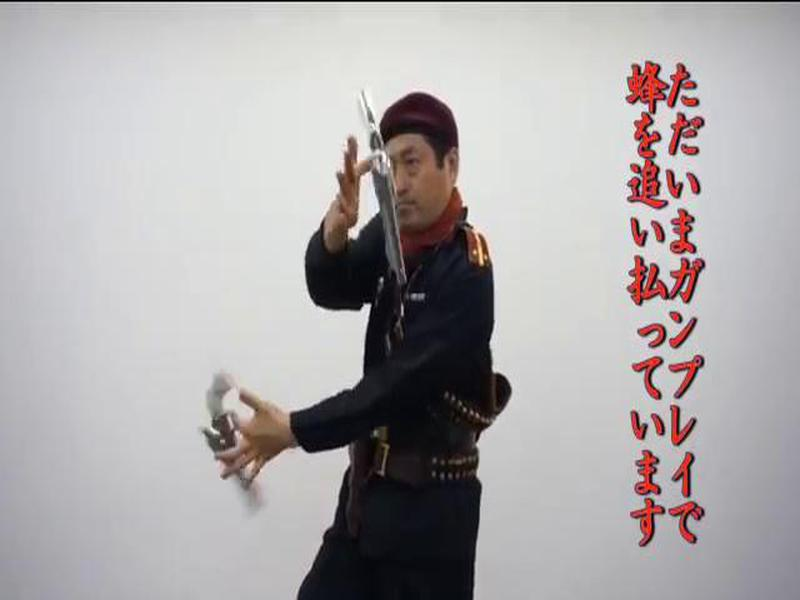Revolver: (341, 79, 412, 303), (190, 362, 279, 522)
